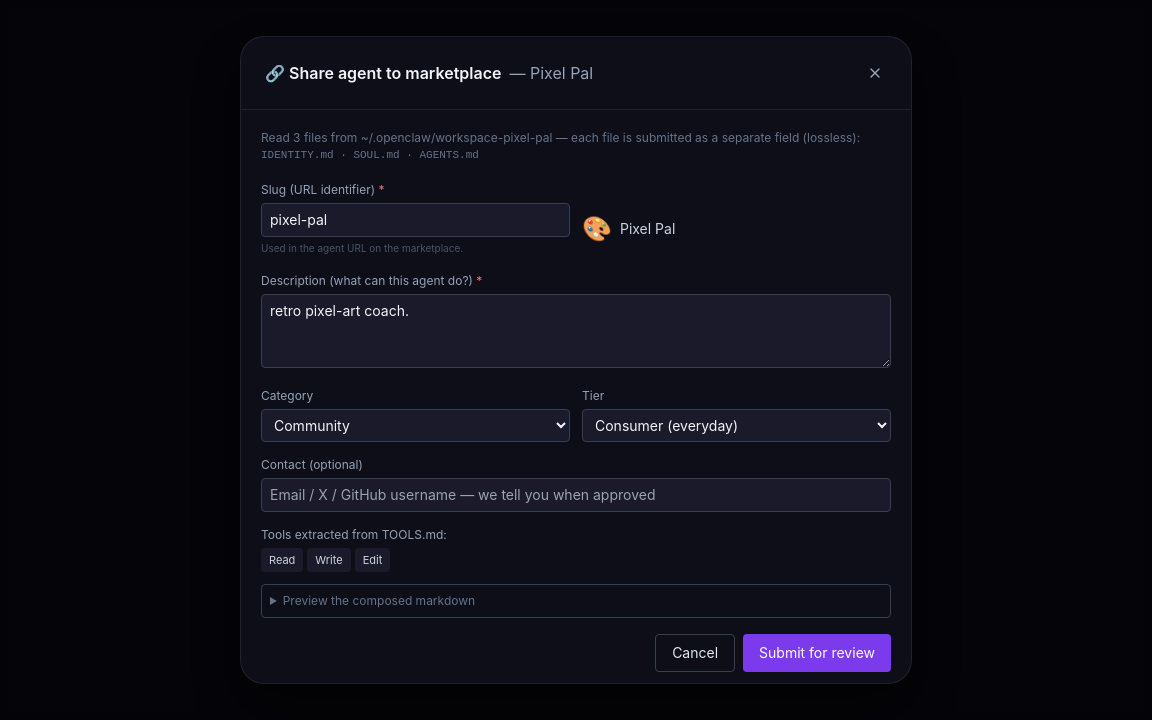
ShareAgentForm · L3 chaos › timeout from IPC (F-063 0.4.4 bug): shows friendly timeout message, NOT raw "timeout after 12000ms"
Click the button with test id "share-submit" at (817, 653), box [743, 634, 891, 672]
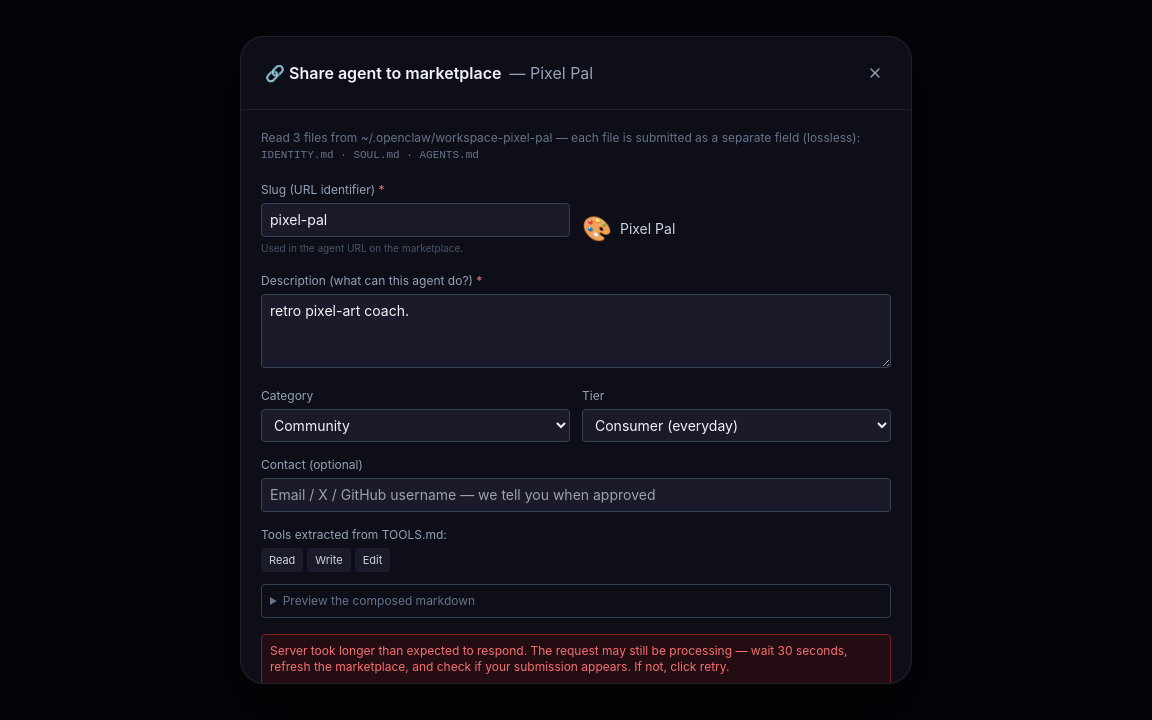
Expected: the message with test id "share-error" is shown, [261, 634, 891, 684]
